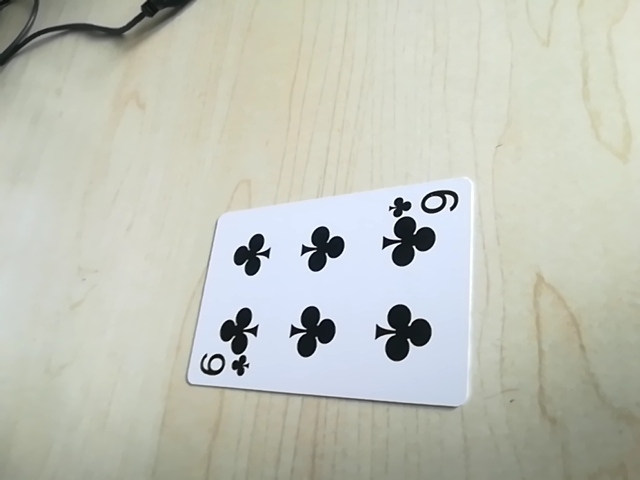mh 6: (388, 188, 462, 221), (194, 351, 253, 383)
